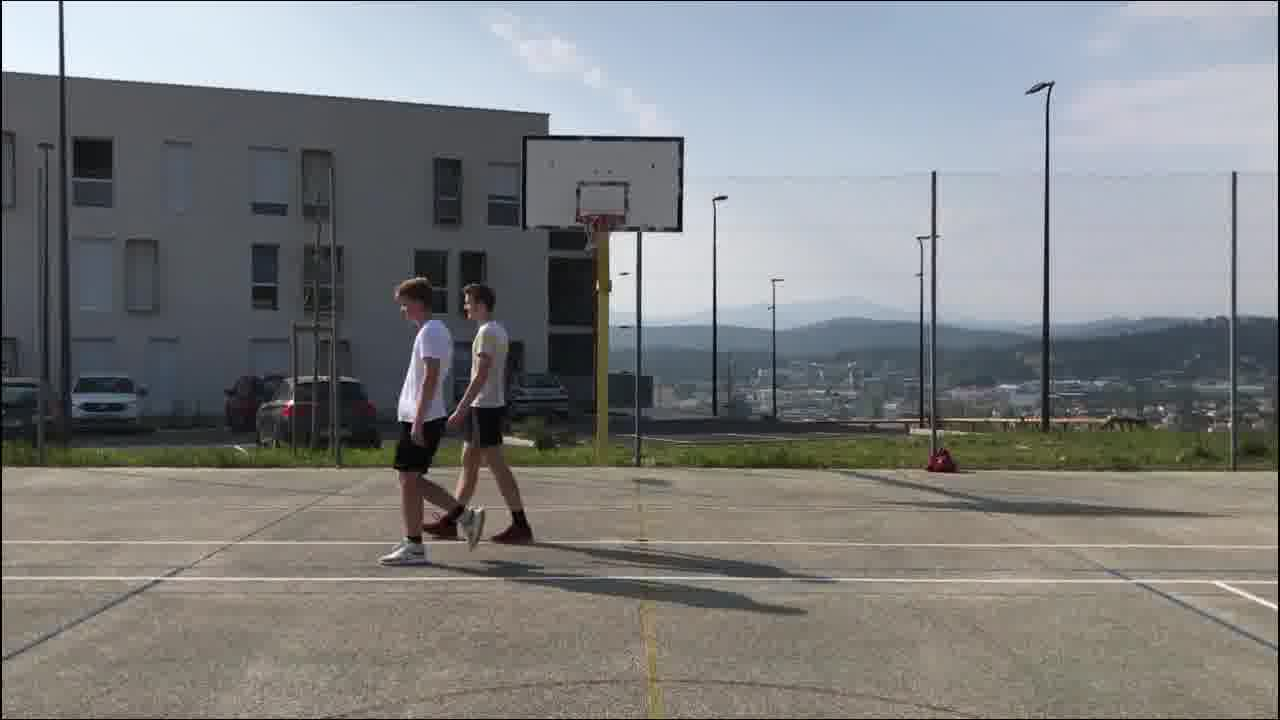jugador: (407, 272, 545, 551)
